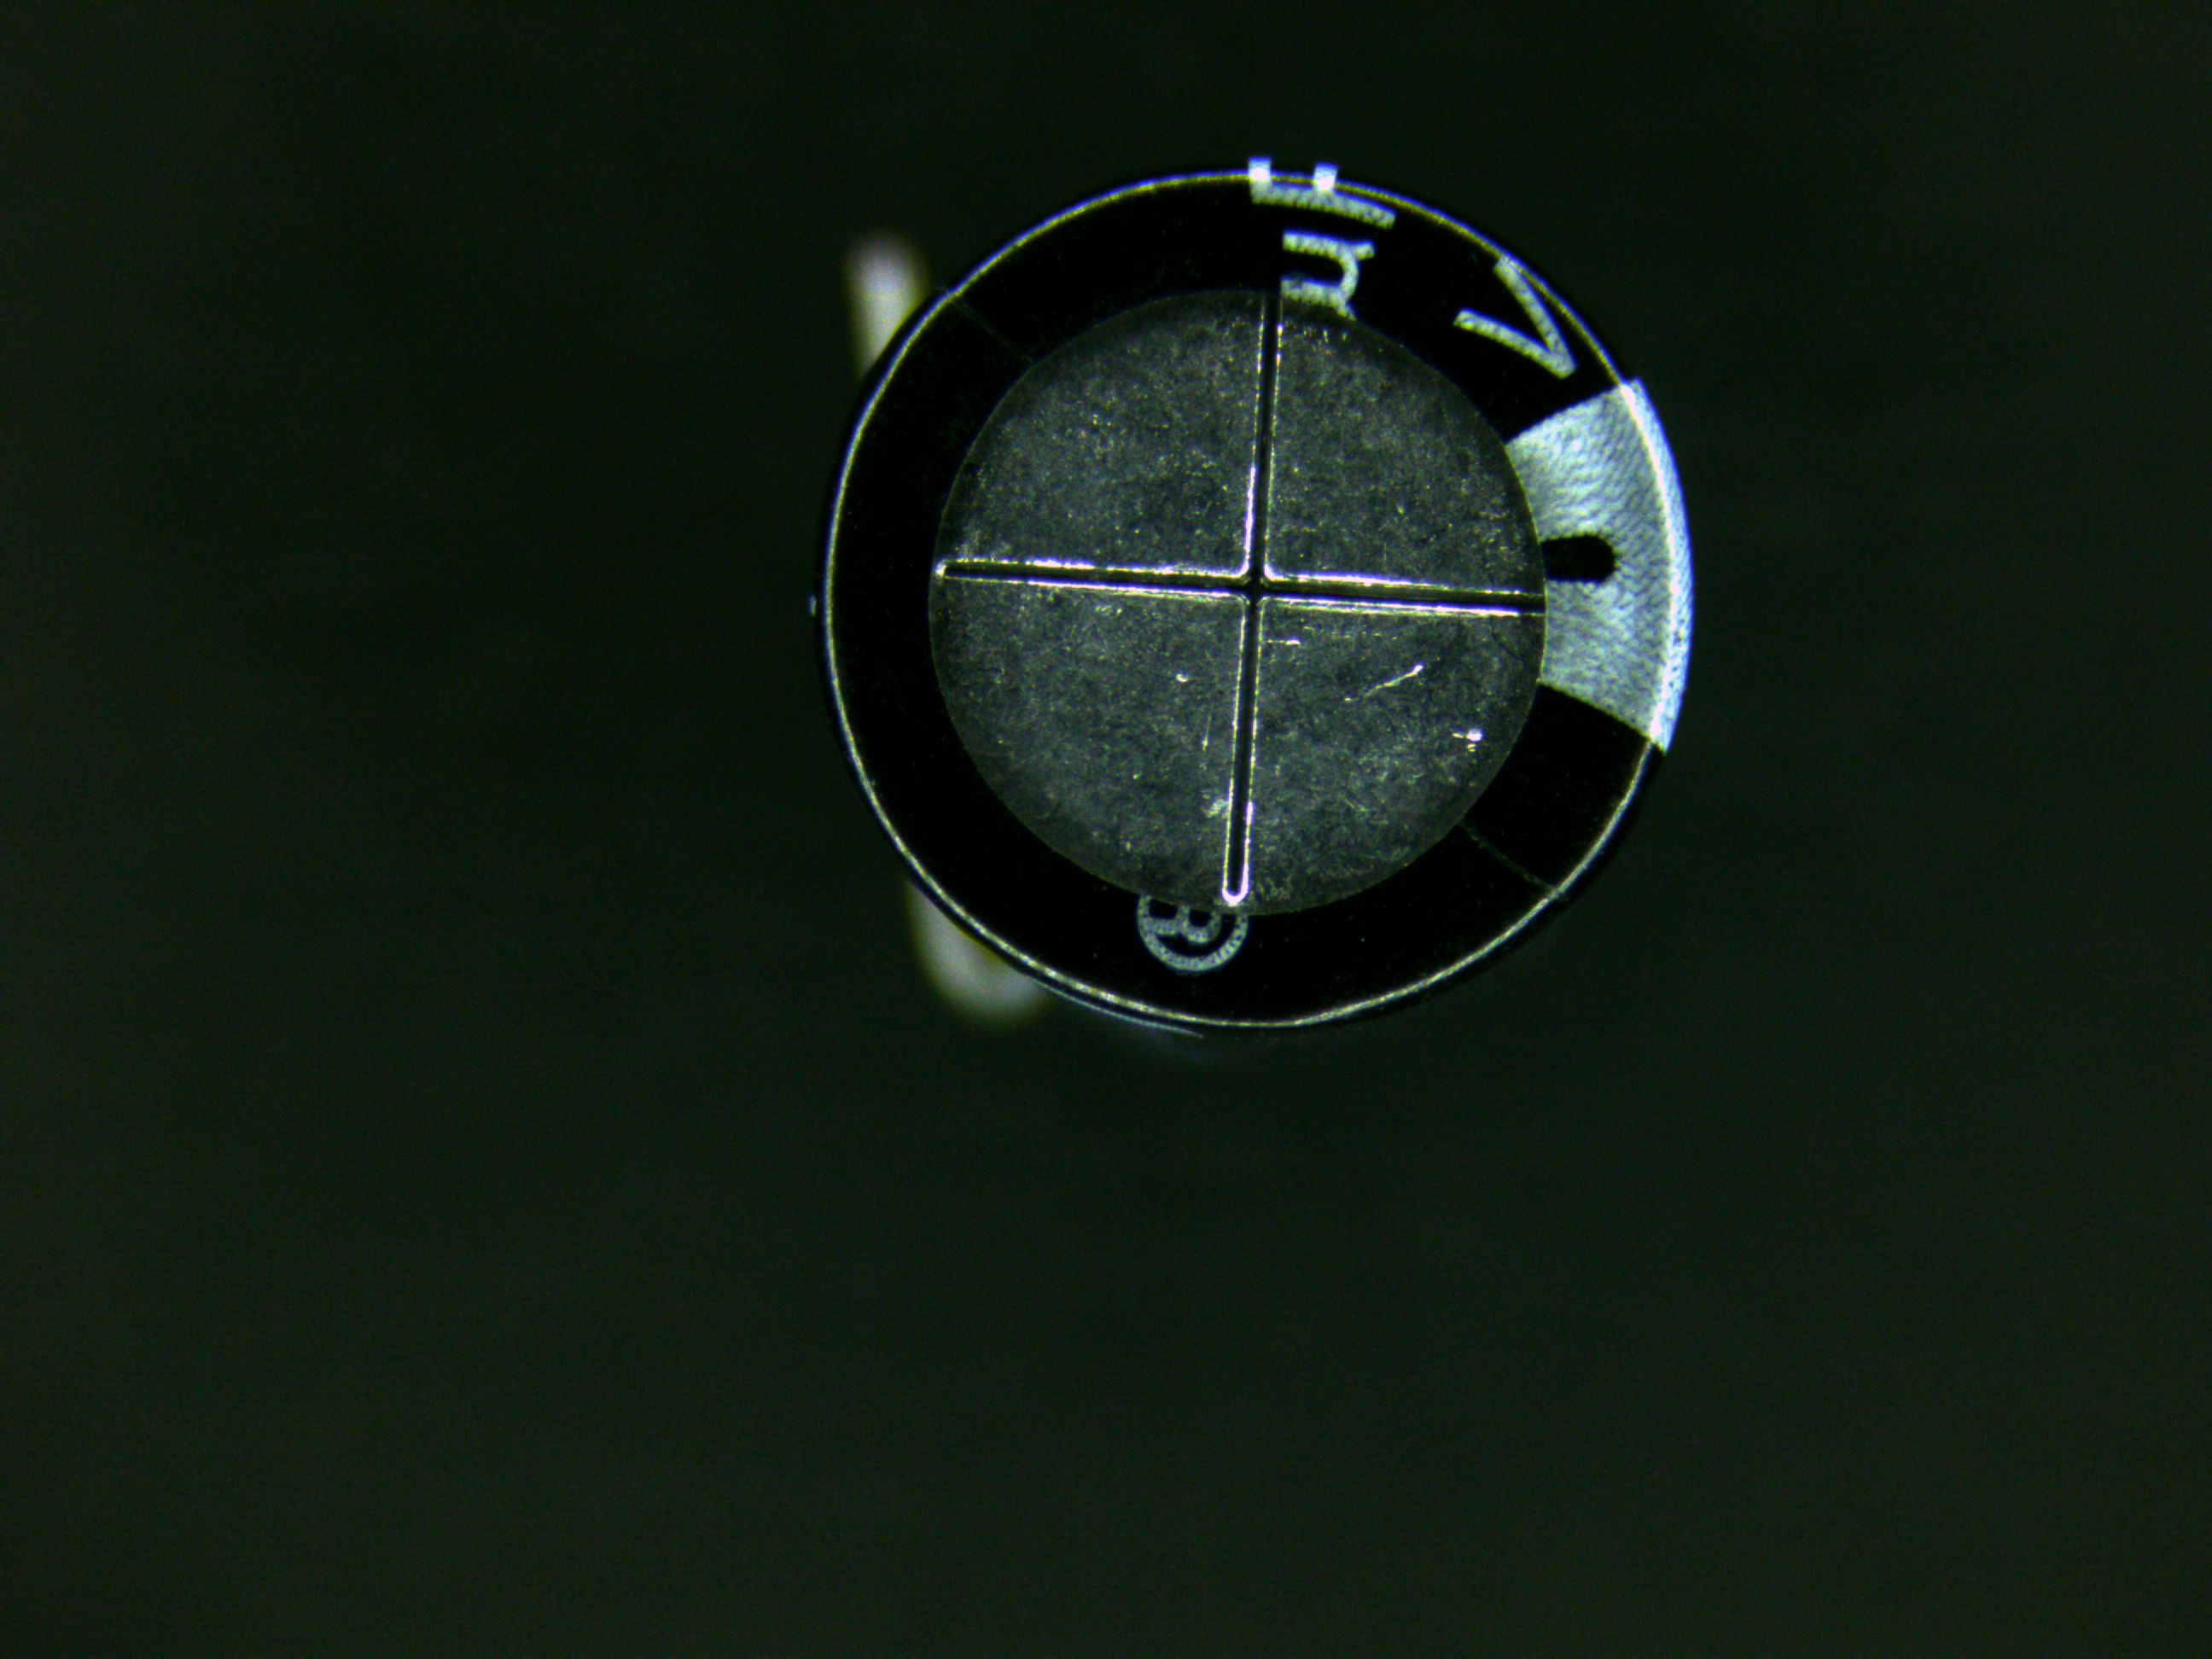c3: (819, 136, 1700, 1039)
